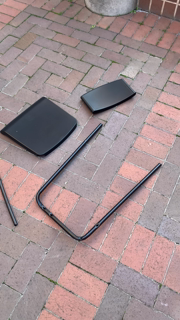Back: (80, 78, 139, 118)
Seat: (2, 96, 81, 162)
U pipe: (34, 121, 164, 245)
